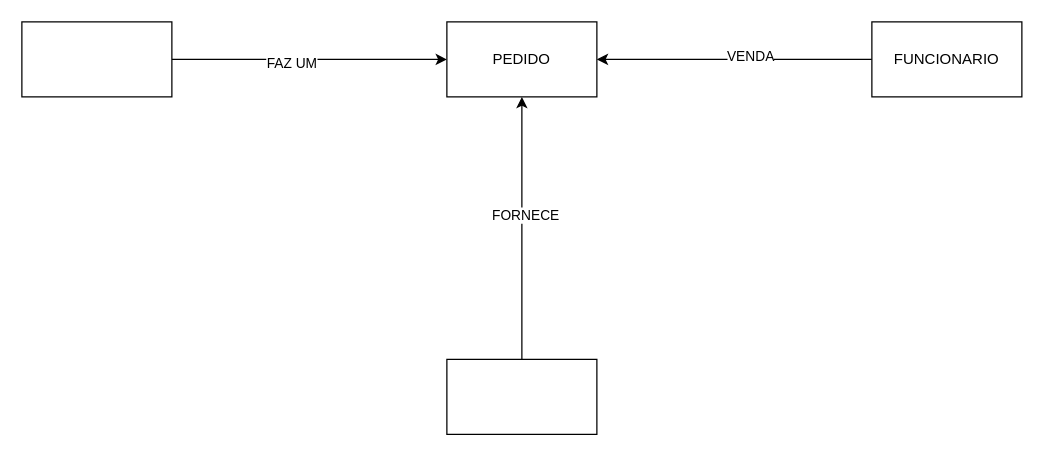
This 1044x456 diagram has some shape labels left out. The shapes that lost their labels are listed below. From the top down, each one's centre as x and y in pixels, then its label:
At pixel 96 59: "CLIENTE".
At pixel 521 396: "PRODUTO".
